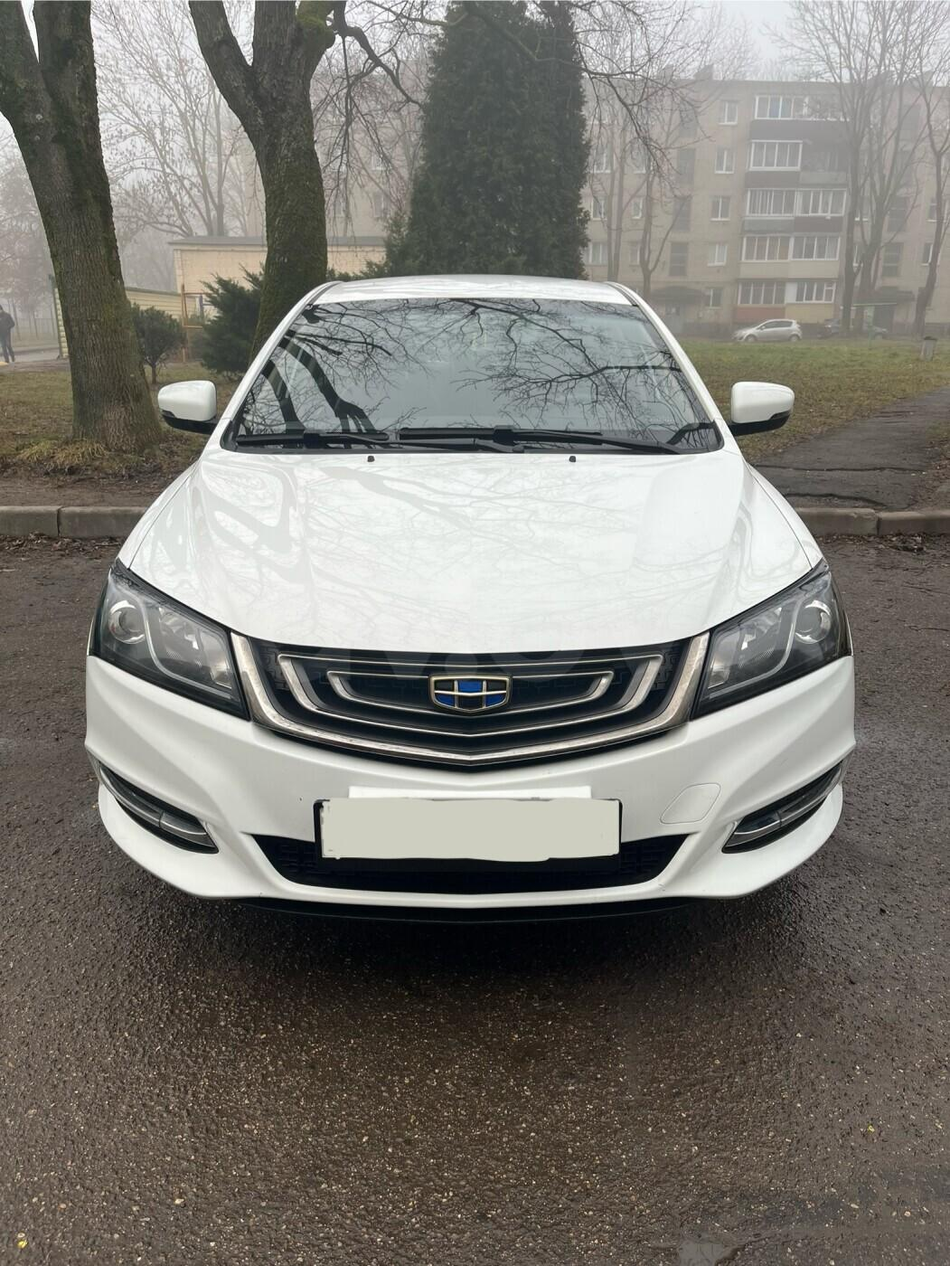Emgrand_2019-2021: (85, 277, 853, 912)
